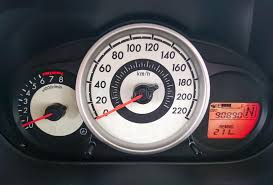Digital_Meter: (210, 104, 244, 120)
